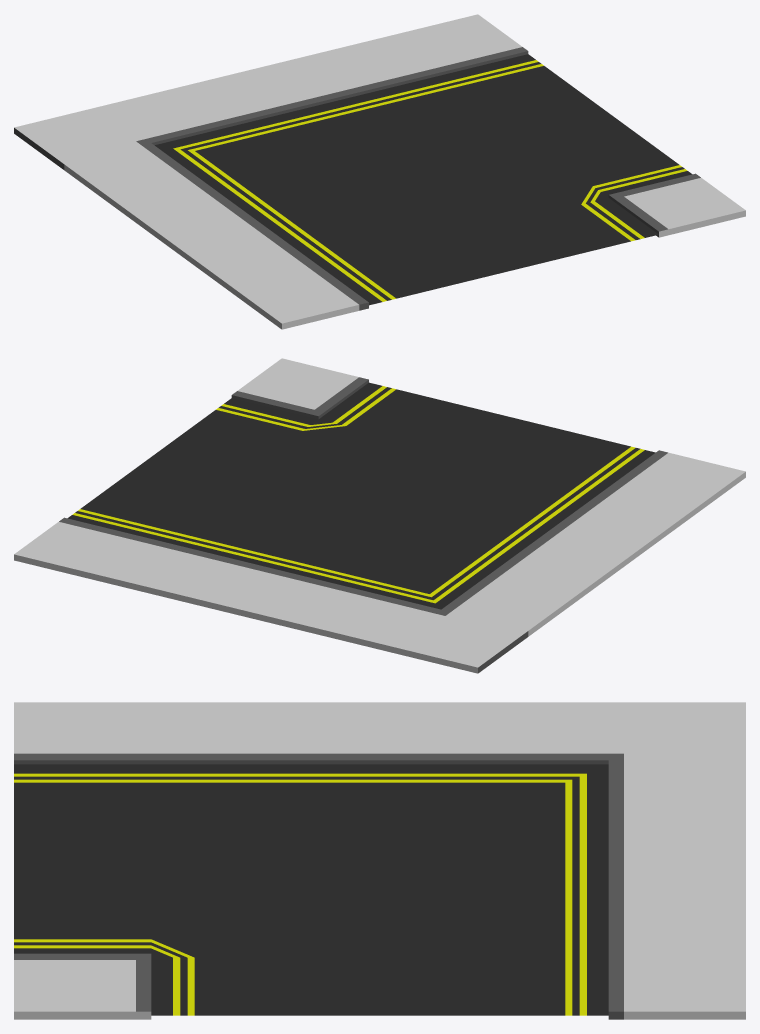
The model's file is m_e_s_road_corner.fbx.
3 renders of one model, top to bottom at view 1: azimuth 30°, elevation 25°; view 2: azimuth 150°, elevation 25°; view 3: azimuth 270°, elevation 25°, orthographic. The views are drawn at different scales.
Visible parts, largest first — view 1: Cube.004, Cube.002, Cube.001, Cube.000, Cube.003; view 2: Cube.004, Cube.001, Cube.002, Cube.003, Cube.000; view 3: Cube.004, Cube.002, Cube.001, Cube.000, Cube.003.
Boxes of the visible parts, x1,y1,x2,y2 form: Cube.004: (155, 54, 692, 305); Cube.002: (64, 143, 368, 329); Cube.001: (101, 14, 528, 145); Cube.000: (608, 173, 745, 237); Cube.003: (14, 106, 150, 169); Cube.004: (67, 382, 655, 609); Cube.001: (14, 517, 440, 652); Cube.002: (441, 450, 745, 636); Cube.003: (391, 609, 528, 673); Cube.000: (231, 358, 368, 419); Cube.004: (14, 764, 608, 1015); Cube.002: (14, 702, 608, 764); Cube.001: (608, 760, 745, 1019); Cube.000: (14, 953, 151, 1019); Cube.003: (608, 702, 745, 760).
Size of the model in its own units: 1600 by 20 by 1600.
